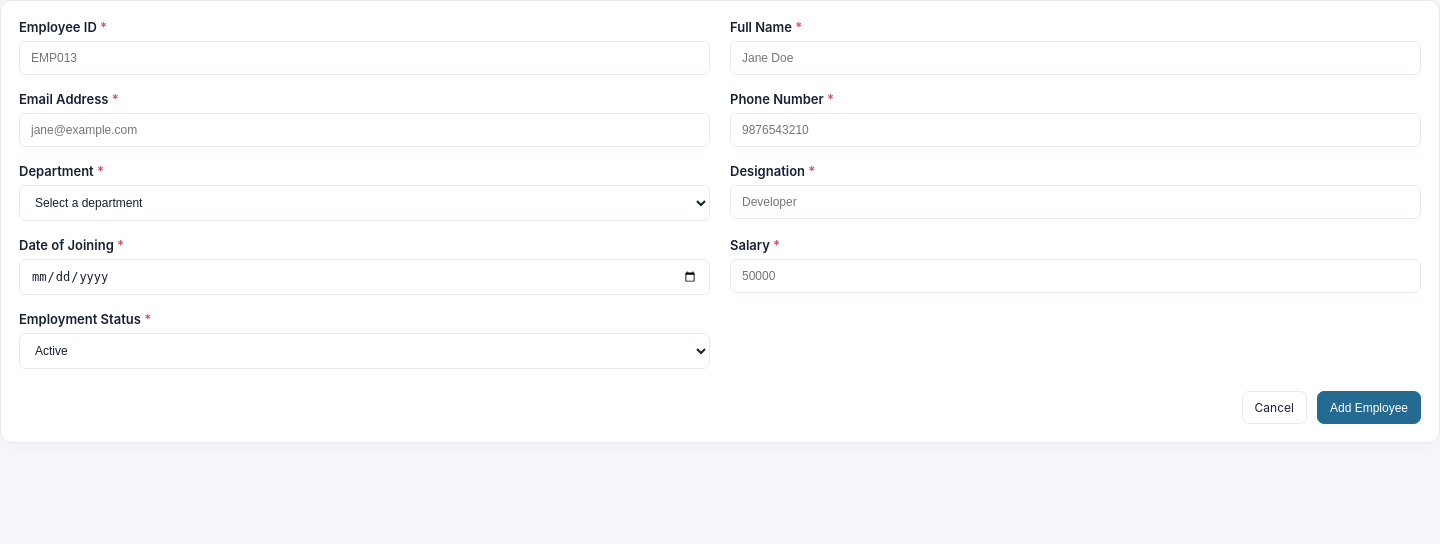
it: EmployeeForm › shows validation errors when required fields are empty
This screenshot has width=1440, height=544.
Click the button "Add Employee".
click(1369, 408)  # box [1317,391,1421,424]
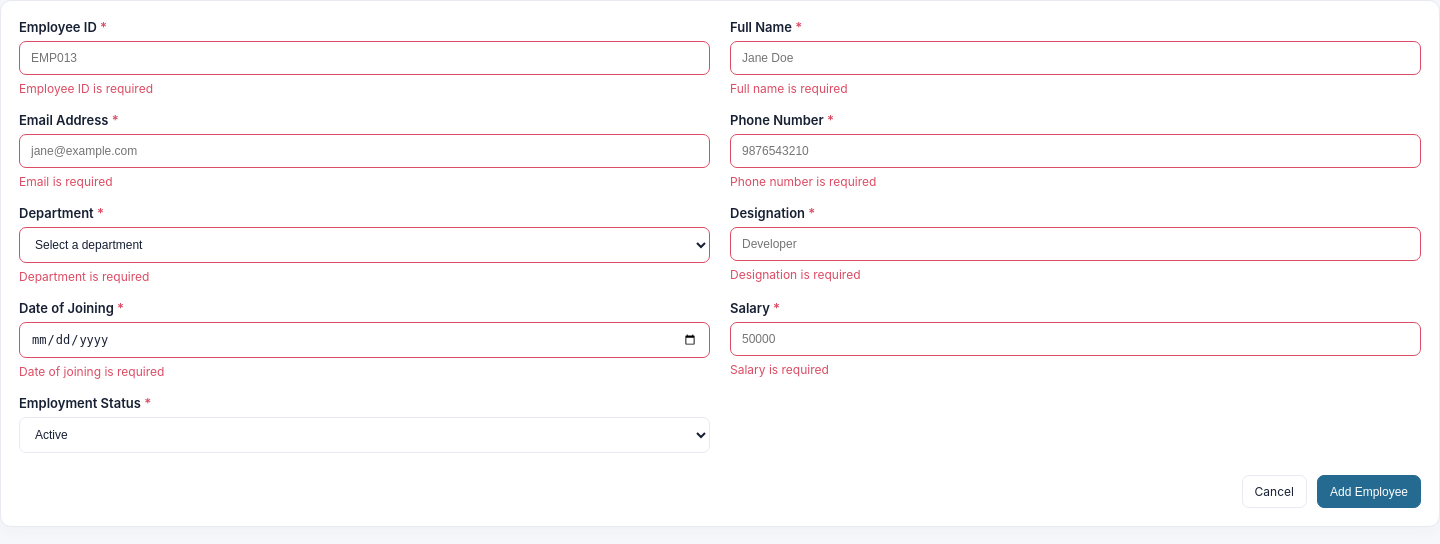
Expected: the text "Employee ID is required" is shown, [19,81,153,96]
Expected: the text "Full name is required" is shown, [730,81,848,96]
Expected: the text "Department is required" is shown, [19,269,149,284]
